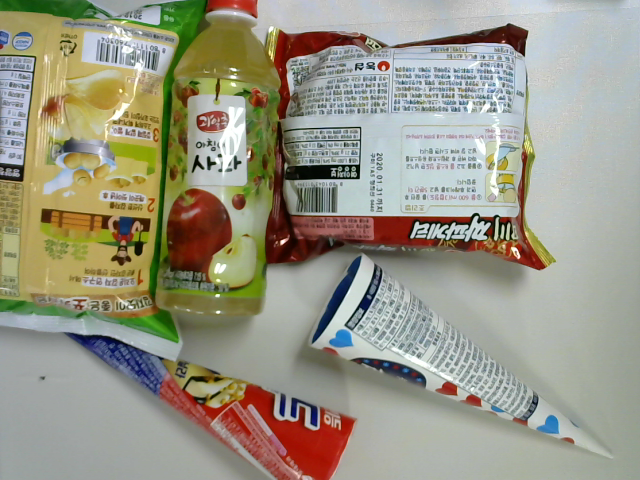Bravo_Cone_(Banila)_CVS: (297, 245, 623, 472)
Morning_Apple_500ml: (148, 1, 289, 324)
Pocachip_Onion: (1, 1, 226, 361)
Sichuan_Chapaghetti: (248, 14, 570, 278)
World_Cone_Banila: (49, 315, 360, 480)
